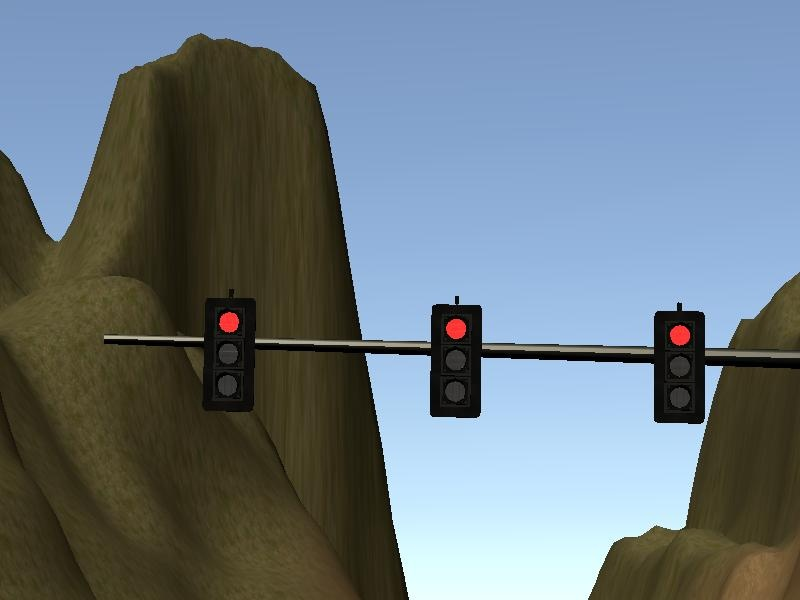red: (429, 304, 481, 420), (202, 296, 254, 412), (654, 310, 706, 426)
